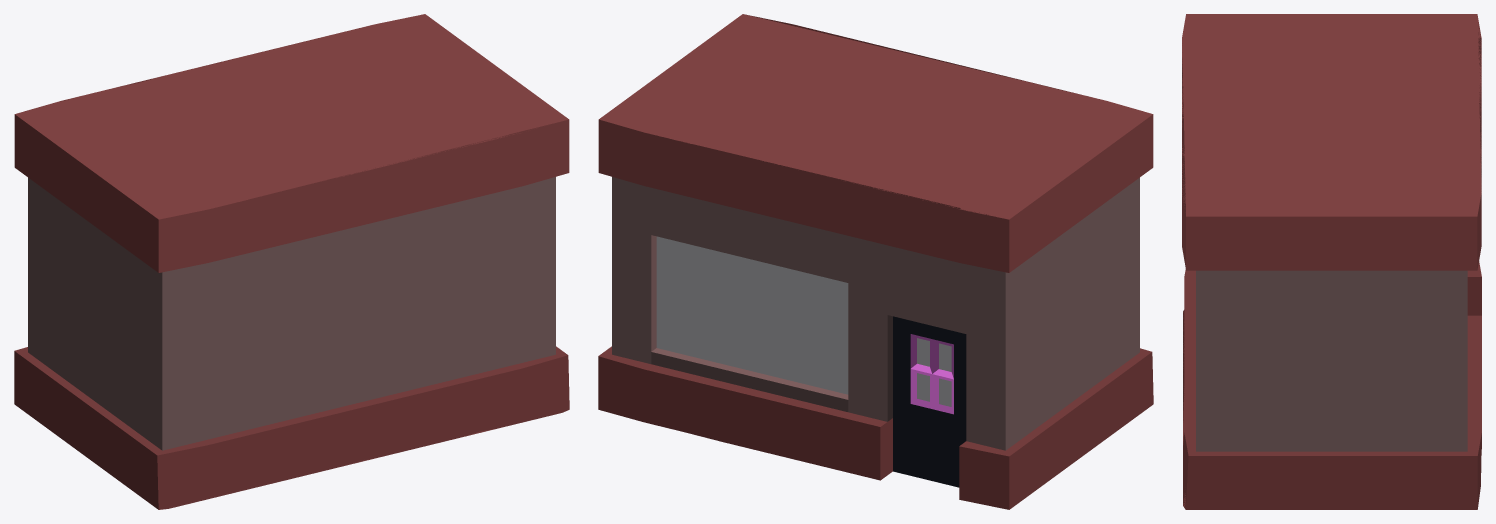
Rendered from storeA.fbx.
3 views of the same model, side by side, from view 1: azimuth 30°, elevation 25°; view 2: azimuth 150°, elevation 25°; view 3: azimuth 270°, elevation 25° (orthographic).
Visible parts, largest first — view 1: StoreA; view 2: StoreA; view 3: StoreA.
Part boxes in pixels (x1,y1,x2,y2): StoreA: [14, 14, 569, 509]; StoreA: [598, 14, 1153, 509]; StoreA: [1182, 14, 1481, 509].
Bounding box in the file's own units: 775 × 522 × 484.
